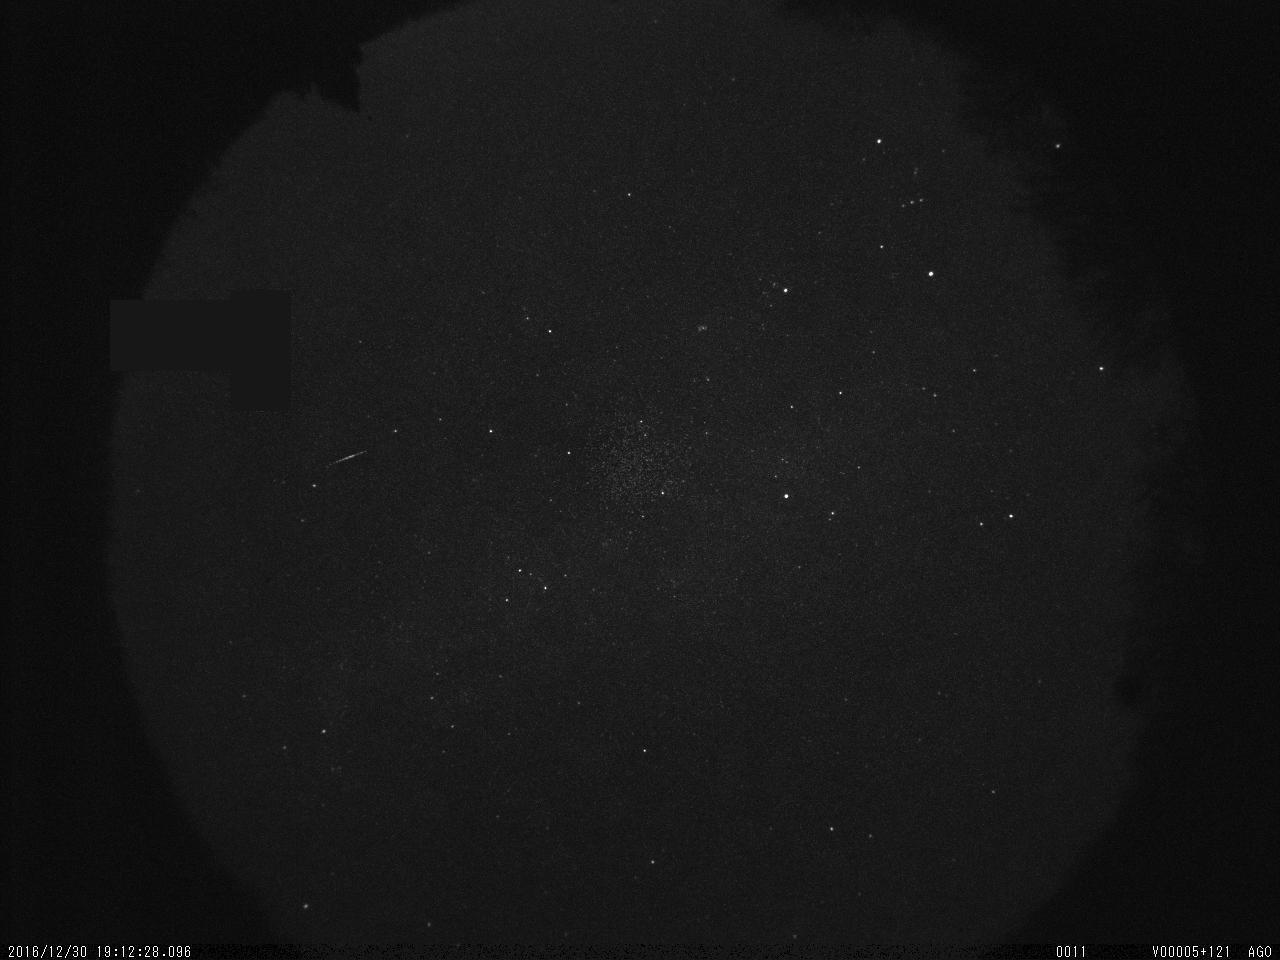meteor: (314, 438, 380, 480)
